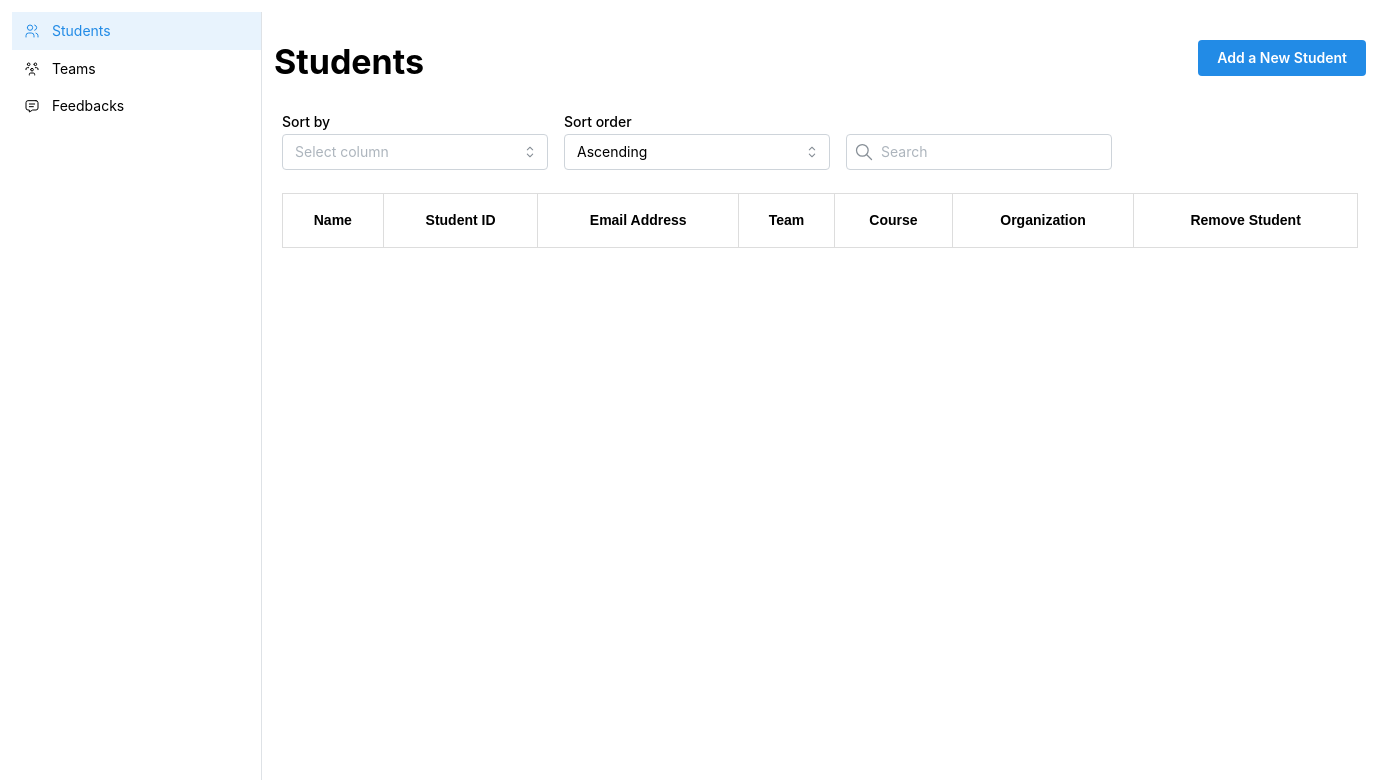
Test: InstructorDashboard › display create a new team button
Click the icon with test id "Teams". click: (32, 68)
box: 24,60 -> 40,76
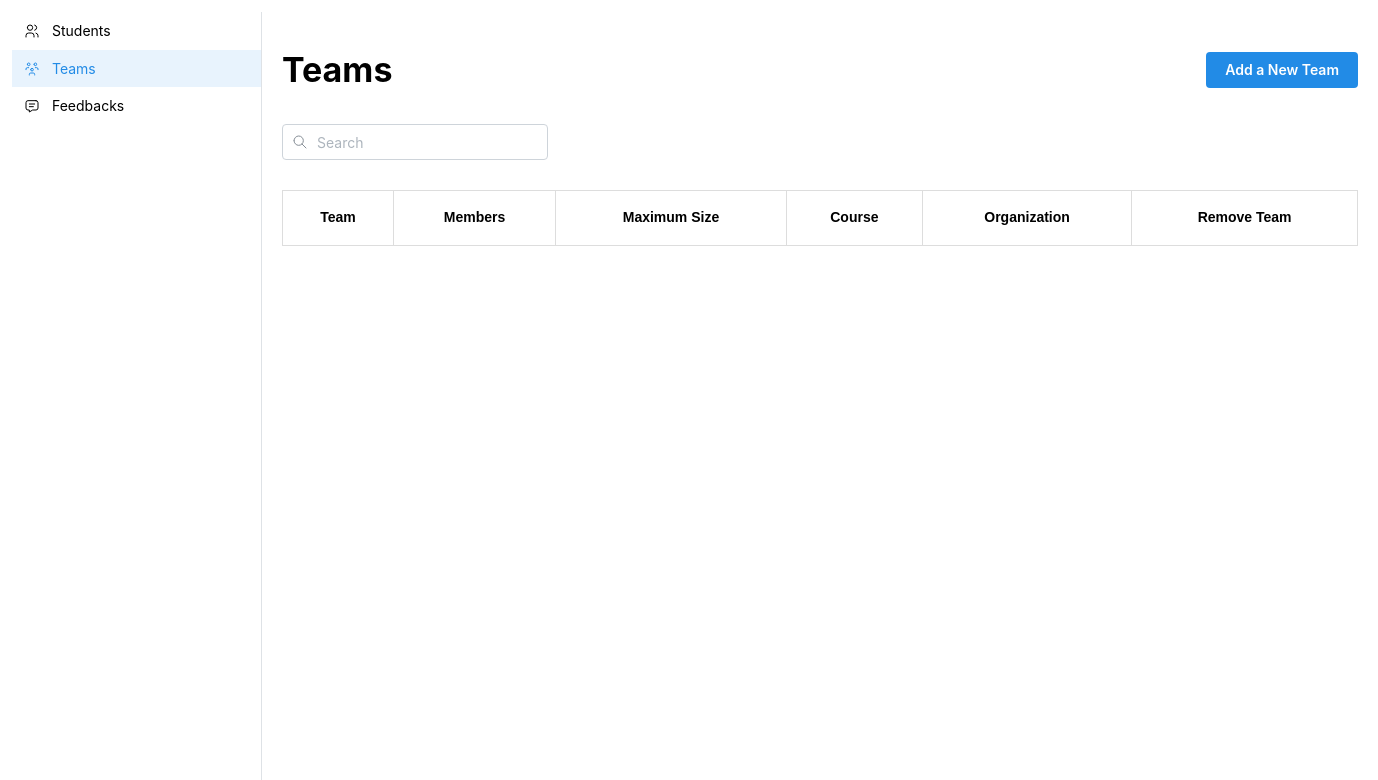
Now the heading "Teams" is shown, box 282,48 -> 392,92
Now the button with test id "newteam" is shown
Click the button with test id "newteam". click: (1282, 70)
box: 1206,52 -> 1358,88
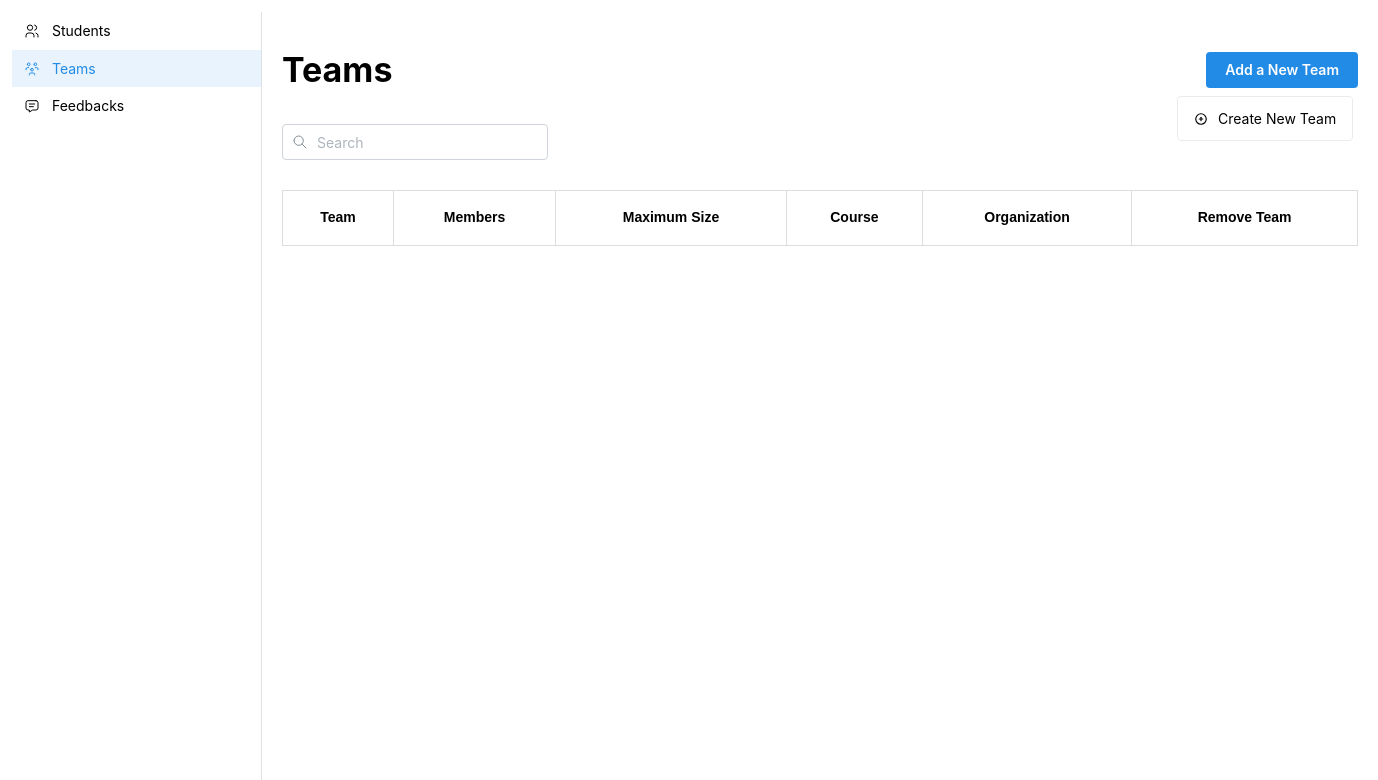
Now the text "Create New Team" is shown, box 1218,108 -> 1336,130
